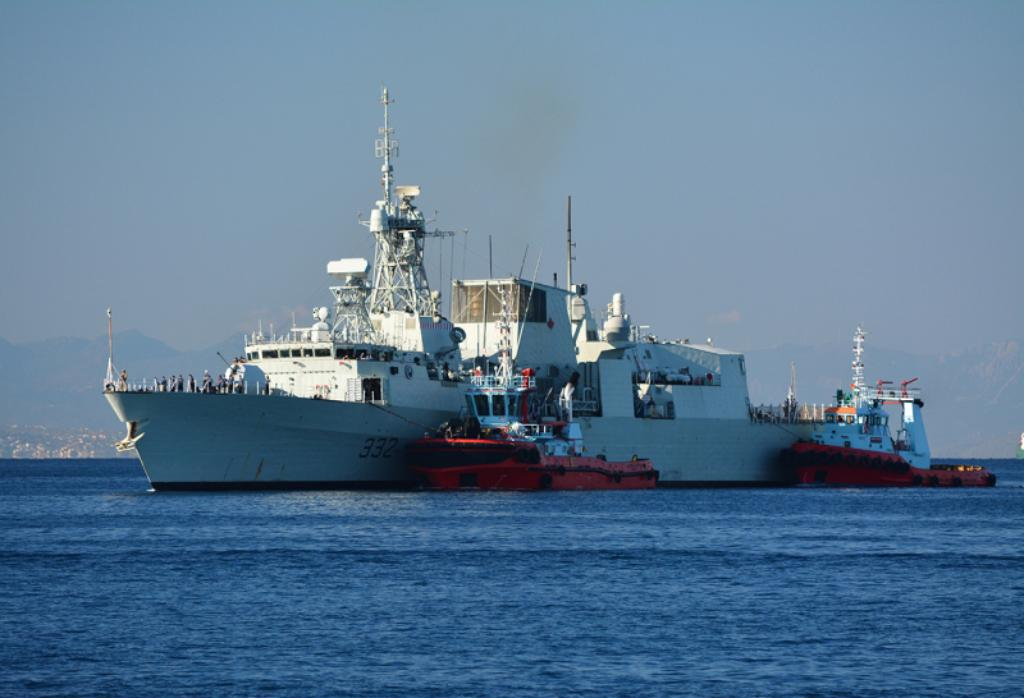Warship: (98, 76, 938, 494)
